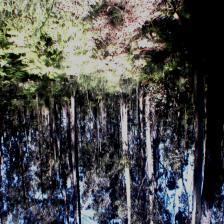trunktrack_idkeyframe: (195, 58, 206, 156)
